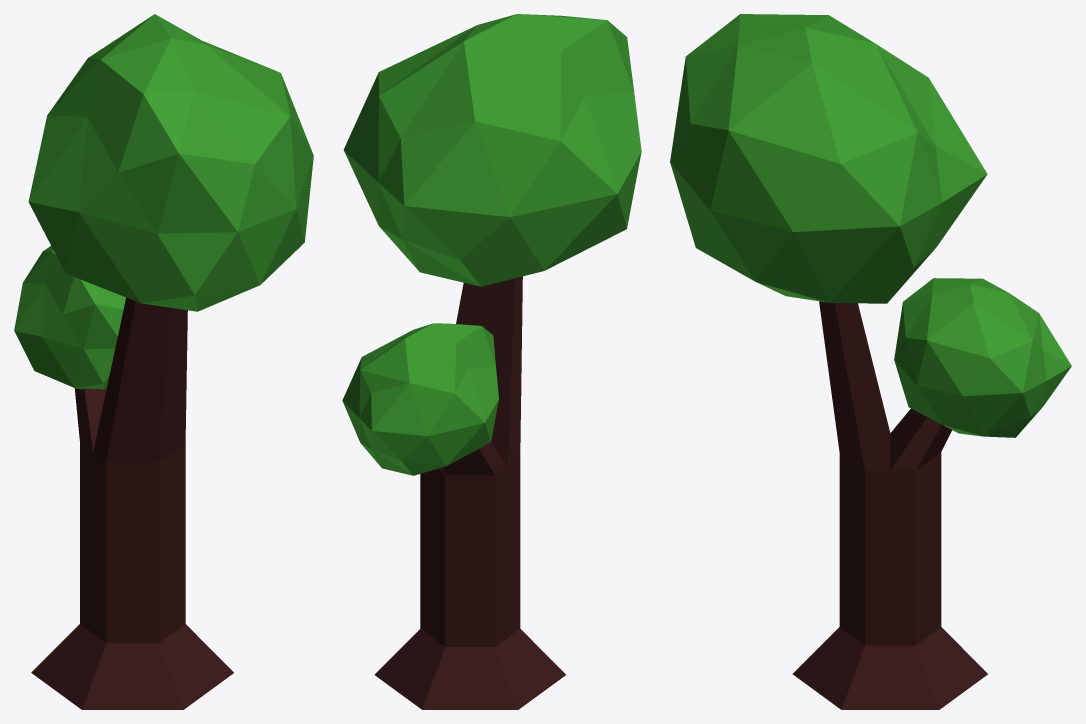
File: tree_1.fbx
The picture shows the model from 3 angles, left to right: view 1: azimuth 30°, elevation 25°; view 2: azimuth 150°, elevation 25°; view 3: azimuth 270°, elevation 25°; orthographic projection. The views are drawn at different scales.
Parts seen in each view (by area): view 1: 円柱; view 2: 円柱; view 3: 円柱.
Boxes of the visible parts, left/top/right/bottom form: 円柱: left=14, top=14, right=313, bottom=709; 円柱: left=342, top=14, right=641, bottom=709; 円柱: left=670, top=14, right=1071, bottom=709.
Bounding box in the file's own units: 50 × 122 × 69.27.
